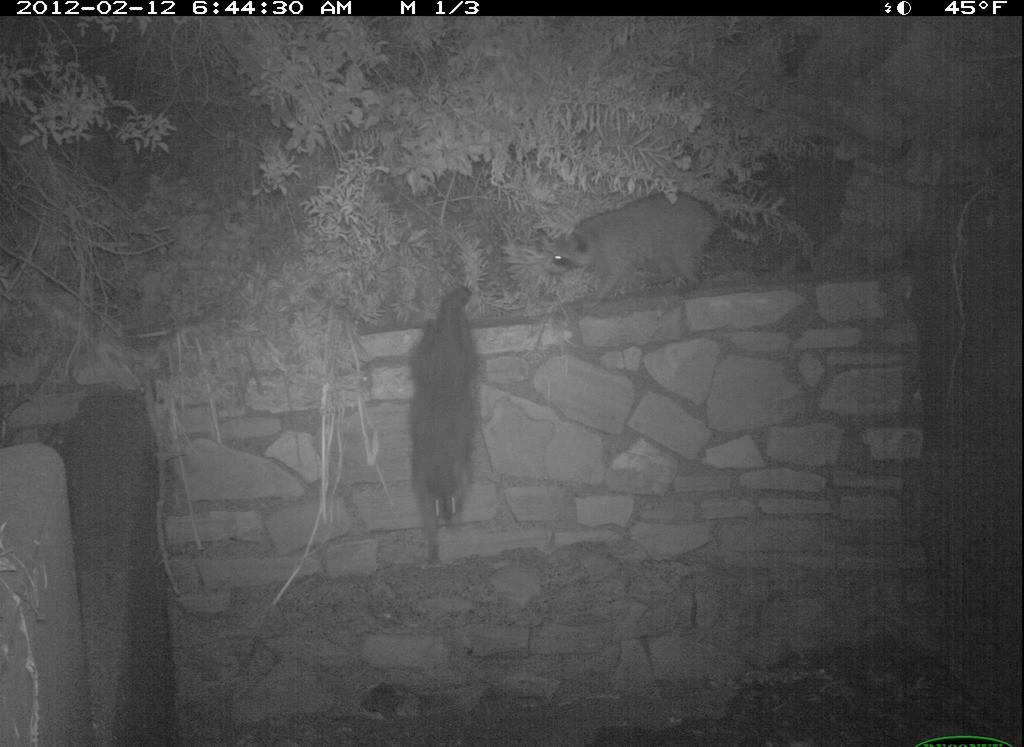raccoon: (405, 282, 483, 571), (541, 187, 725, 301)
